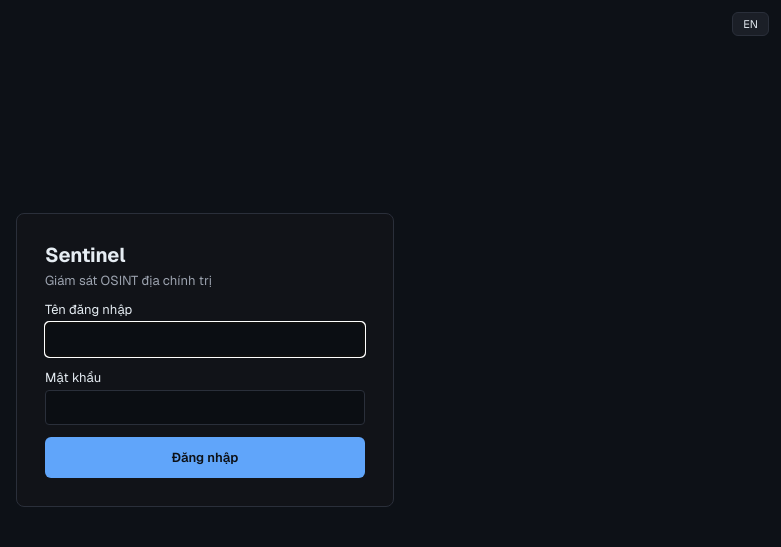
Test case: LoginPage › shows the credentials message for a 401
The image size is (781, 547).
Type "admin" into the field labelled "Tên đăng nhập".
click(205, 340); type("admin")  # box x1=45 y1=322 x2=365 y2=357
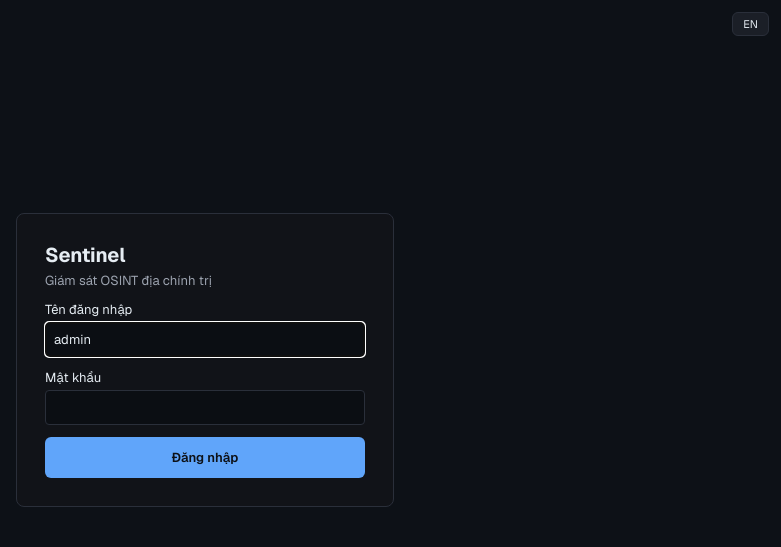
Type "wrong" into the password field labelled "Mật khẩu".
click(205, 408); type("wrong")  # box x1=45 y1=390 x2=365 y2=425
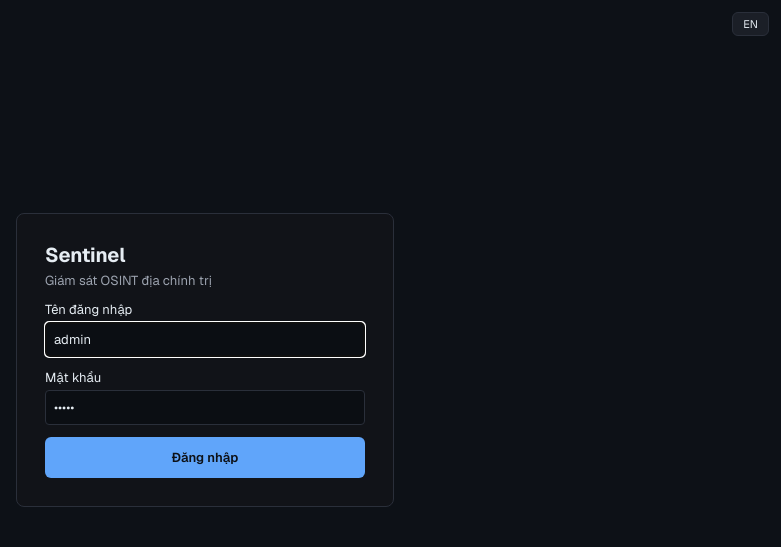
Click the button "Đăng nhập".
click(205, 458)  # box x1=45 y1=437 x2=365 y2=478
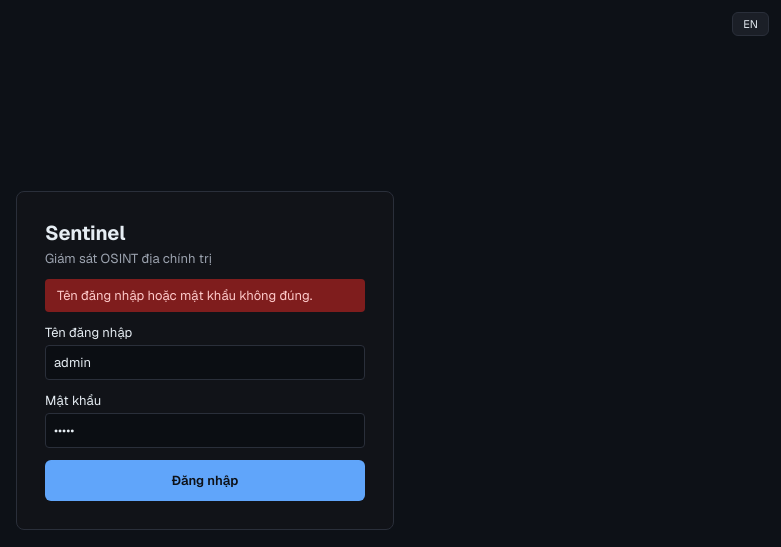
Expected: the text "Tên đăng nhập hoặc mật khẩu không đúng." is shown, x1=45 y1=278 x2=365 y2=312
